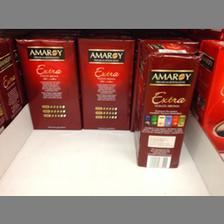Kaffee: (131, 41, 201, 168), (15, 31, 80, 130), (76, 32, 134, 130)
